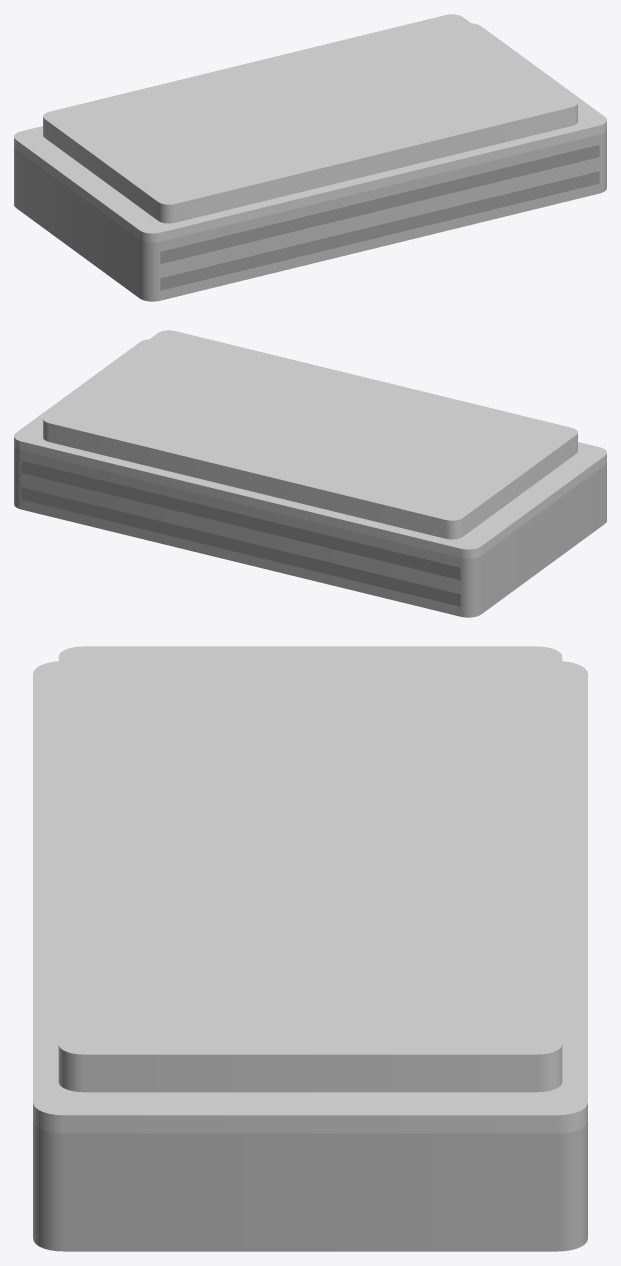
File: House A.fbx
3 renders of one model, top to bottom at view 1: azimuth 30°, elevation 25°; view 2: azimuth 150°, elevation 25°; view 3: azimuth 270°, elevation 25°, orthographic. The views are drawn at different scales.
Parts seen in each view (by area): view 1: House A Roof, House A; view 2: House A Roof, House A; view 3: House A Roof, House A.
Boxes of the visible parts, x1,y1,x2,y2 form: House A Roof: (14,14,606,242); House A: (14,130,606,301); House A Roof: (14,330,606,558); House A: (14,446,606,617); House A Roof: (33,646,587,1133); House A: (33,1121,587,1251).
Size of the model in its own units: 1469 by 262 by 759.
